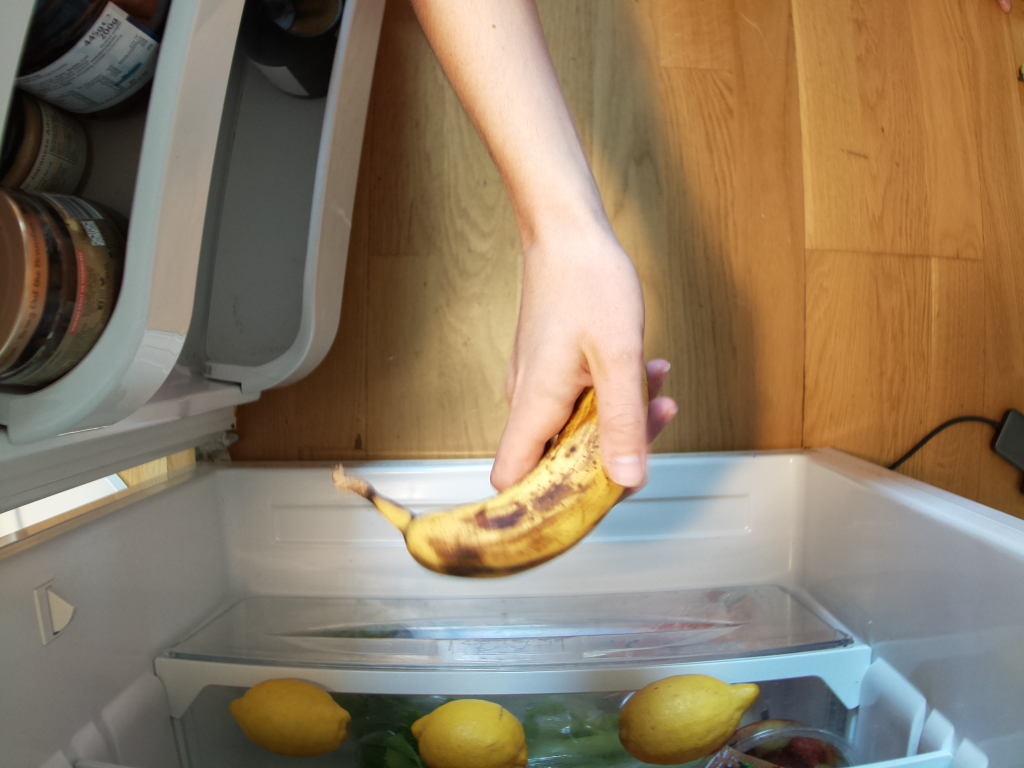banana-overripe: (329, 408, 640, 580)
